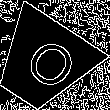O_SW: (10, 30, 76, 96)
